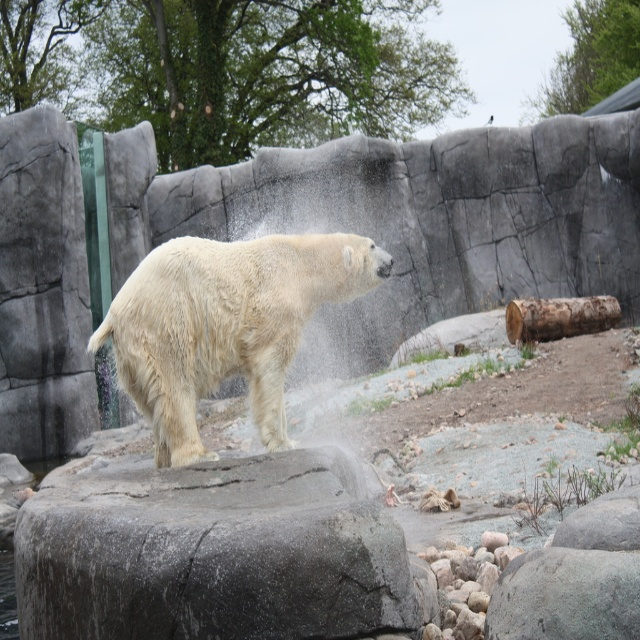Polar bear: (85, 235, 393, 460)
